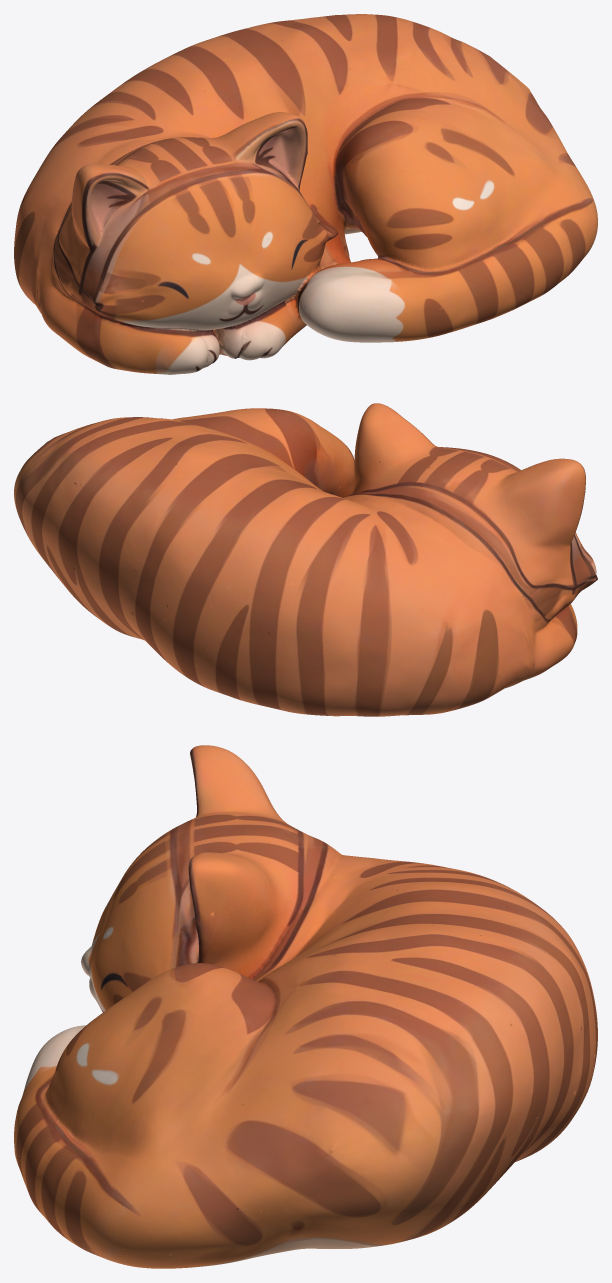
Rendered from pet_cat_sleep.glb.
The picture shows the model from 3 angles, top to bottom: view 1: azimuth 30°, elevation 25°; view 2: azimuth 150°, elevation 25°; view 3: azimuth 270°, elevation 25°; orthographic projection. The views are drawn at different scales.
Visible parts, largest first — view 1: Mesh_0.028; view 2: Mesh_0.028; view 3: Mesh_0.028.
Part boxes in pixels (x1=…): Mesh_0.028: x1=14, y1=14, x2=597, y2=374; Mesh_0.028: x1=14, y1=403, x2=597, y2=716; Mesh_0.028: x1=14, y1=745, x2=597, y2=1268.
Size of the model in its own units: 1.29 by 0.5117 by 0.9903.
Materials: 1 (1 with a texture image).
